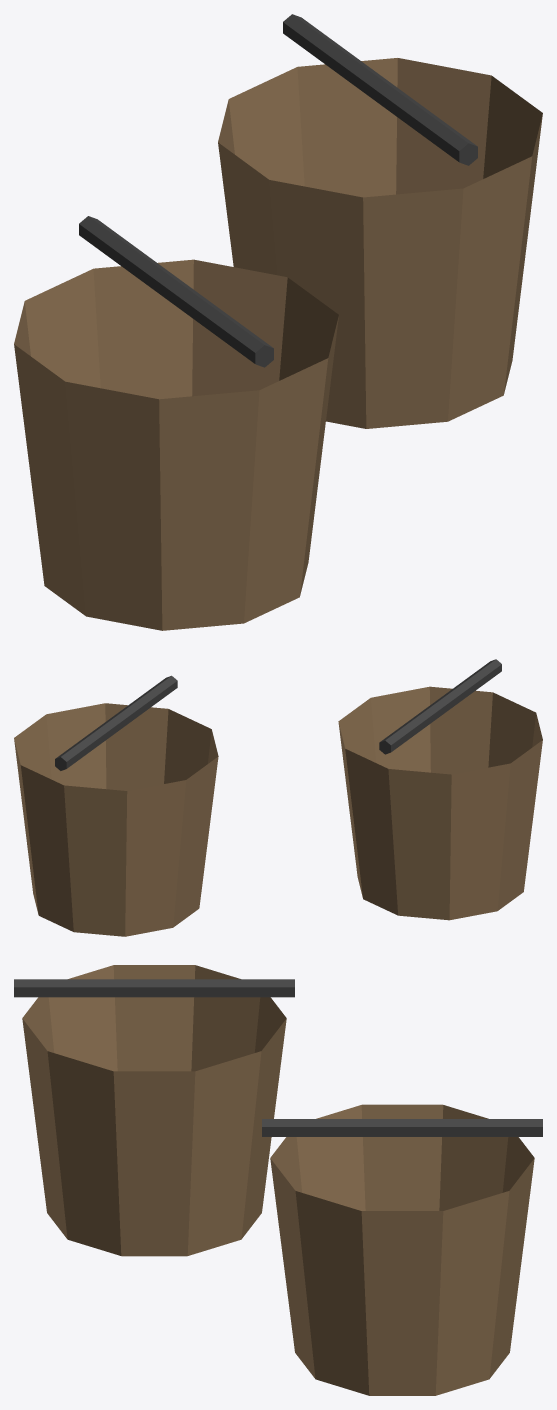
Rendered from water_buckets.glb.
3 renders of one model, top to bottom at view 1: azimuth 30°, elevation 25°; view 2: azimuth 150°, elevation 25°; view 3: azimuth 270°, elevation 25°, orthographic. The views are drawn at different scales.
Parts seen in each view (by area): view 1: bucket_0, bucket_1, bucket_handle_0, bucket_handle_1; view 2: bucket_0, bucket_1, bucket_handle_0, bucket_handle_1; view 3: bucket_1, bucket_0, bucket_handle_0, bucket_handle_1.
Part boxes in pixels (x1,y1,x2,y2): bucket_0: (14,259,338,630); bucket_1: (218,58,542,428); bucket_handle_0: (79,216,273,367); bucket_handle_1: (283,14,477,165); bucket_0: (338,686,542,920); bucket_1: (14,703,218,936); bucket_handle_0: (379,659,501,754); bucket_handle_1: (55,675,177,770); bucket_1: (270,1104,534,1395); bucket_0: (22,965,286,1256); bucket_handle_0: (14,979,294,997); bucket_handle_1: (262,1119,542,1136).
Bounding box in the file's own units: 0.7043 × 0.312 × 0.64.
